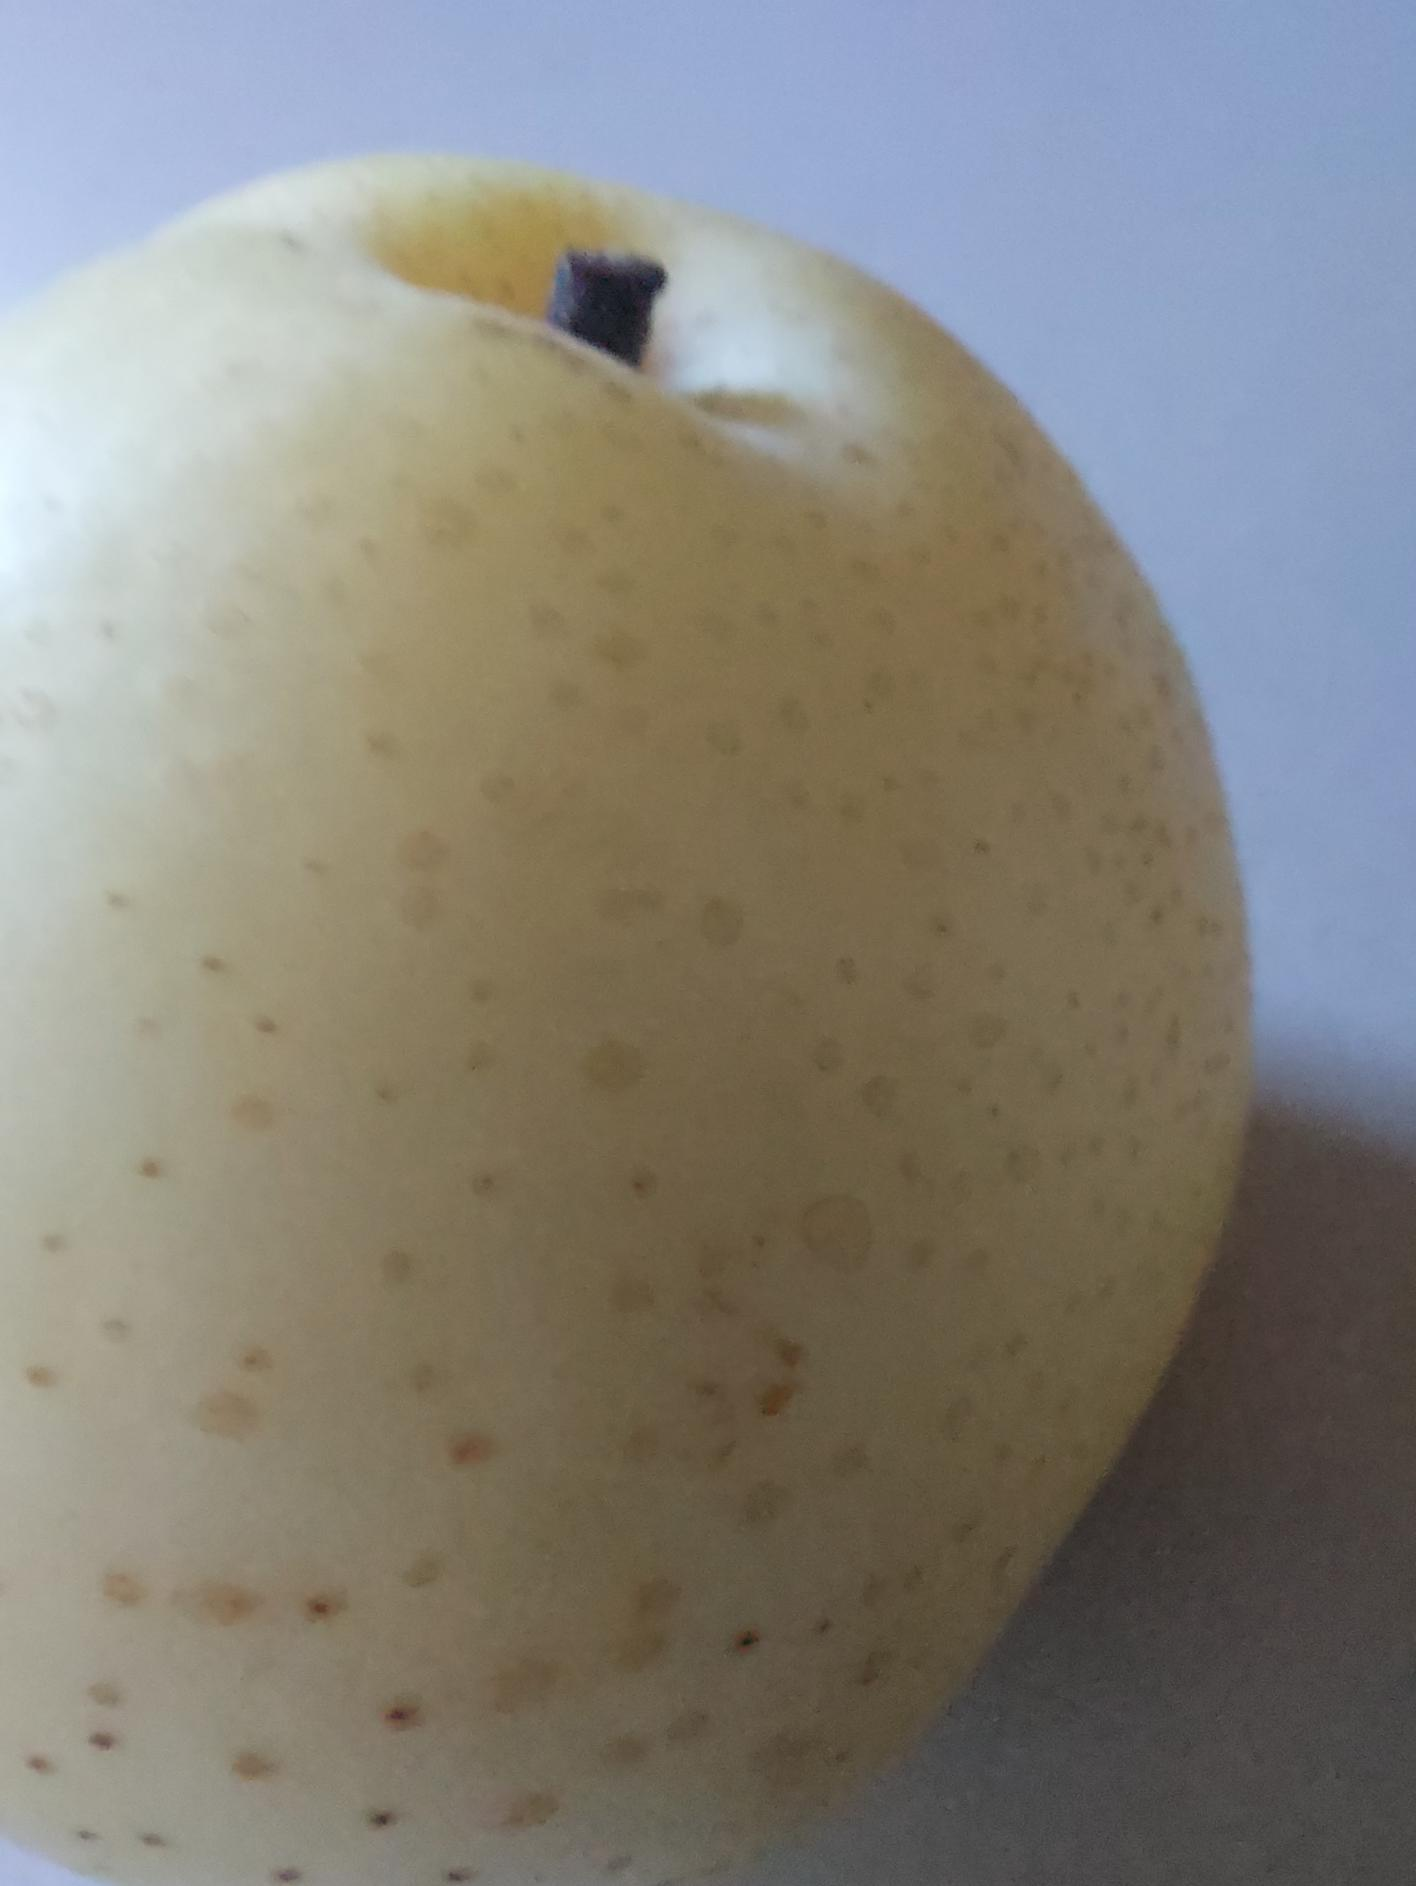Good Pear: (0, 54, 1336, 1886)
